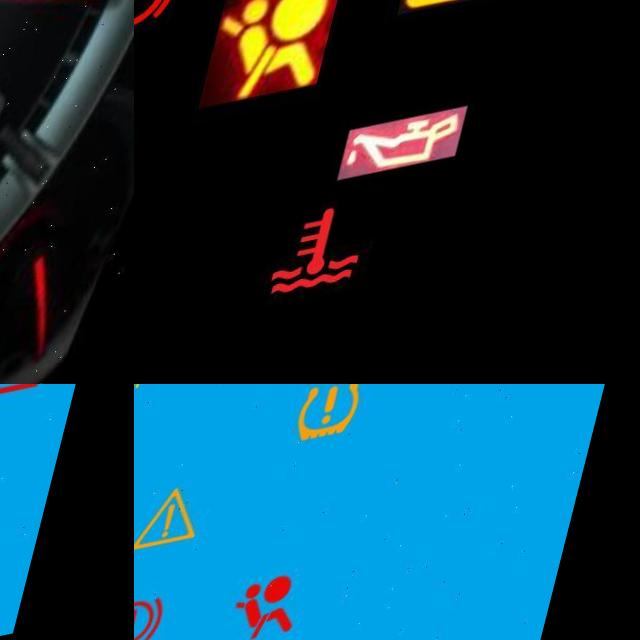Central Warning lamp: (413, 0, 553, 34)
Engine cooling system: (278, 197, 419, 335)
